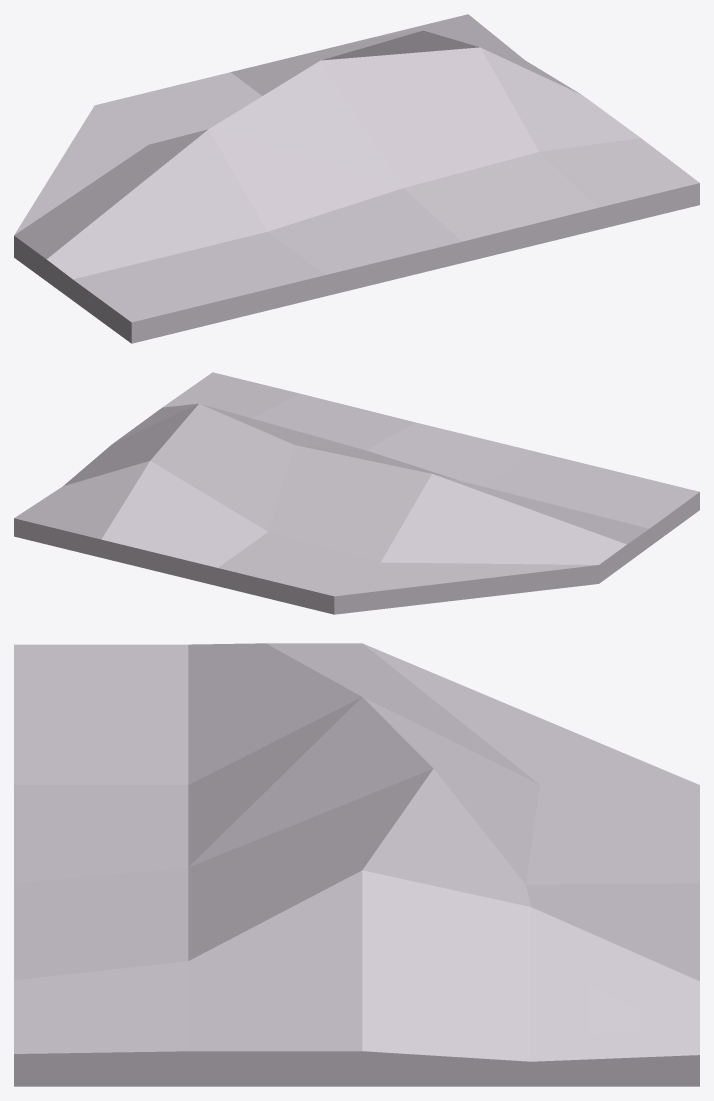
Rendered from snow_06.fbx.
3 views of the same model, one above another, from view 1: azimuth 30°, elevation 25°; view 2: azimuth 150°, elevation 25°; view 3: azimuth 270°, elevation 25° (orthographic). The views are drawn at different scales.
Visible parts, largest first — view 1: Plane.021; view 2: Plane.021; view 3: Plane.021.
Part boxes in pixels (left/top/right/bottom): Plane.021: left=14, top=14, right=699, bottom=343; Plane.021: left=14, top=372, right=699, bottom=614; Plane.021: left=14, top=643, right=699, bottom=1086.
Bounding box in the file's own units: 837 × 139 × 591.
